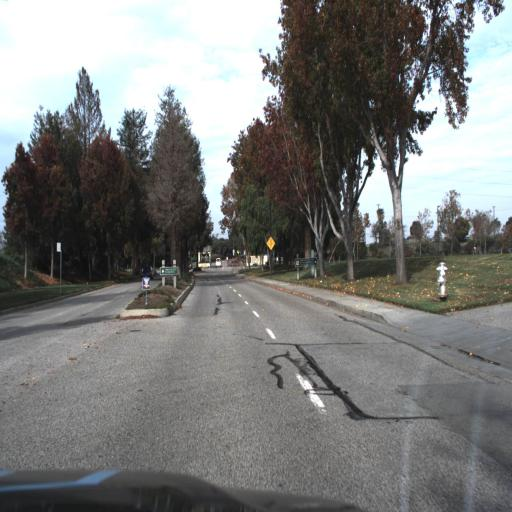car: (140, 266, 154, 281)
